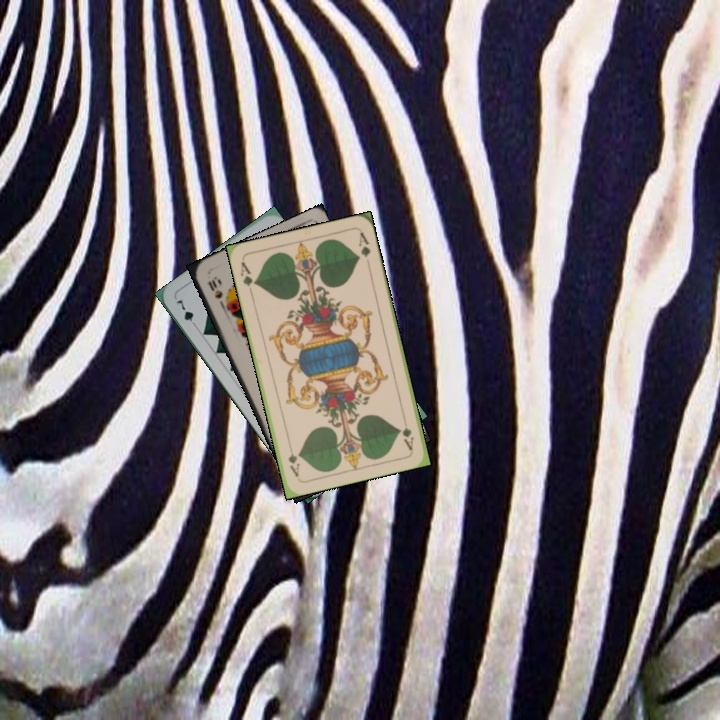G7: (172, 295, 200, 331)
GA: (236, 258, 258, 297), (398, 412, 416, 453)
S10: (204, 273, 227, 310)
